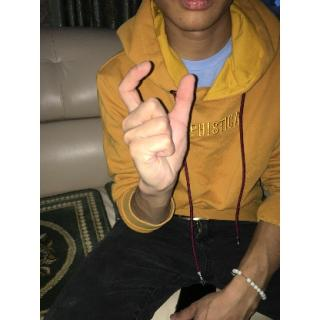NOON: (114, 55, 200, 193)
